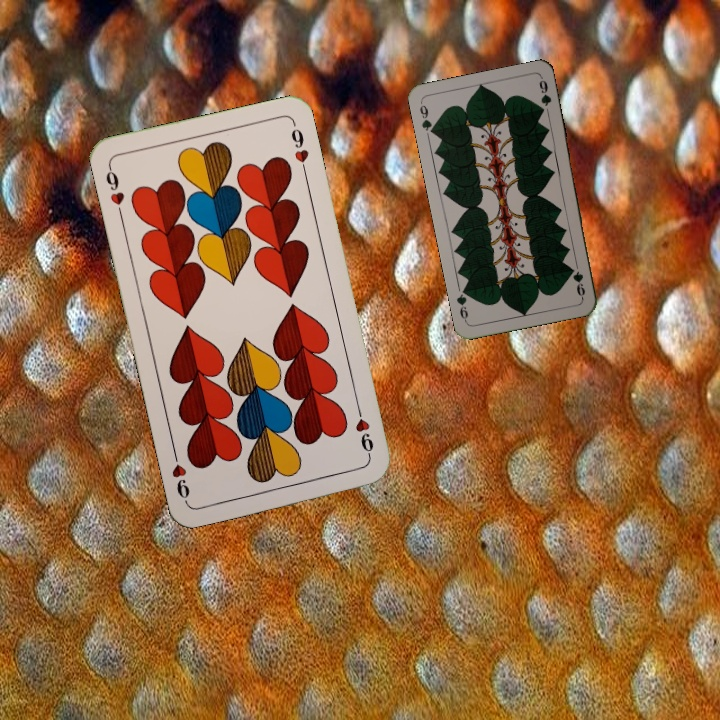G9: (416, 99, 438, 138), (570, 260, 588, 300)
H9: (101, 161, 127, 220), (351, 402, 377, 461)
